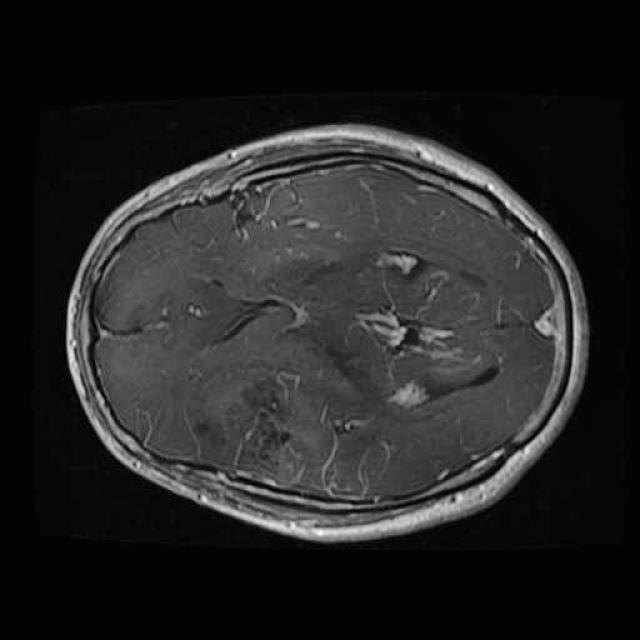Tumor: (186, 364, 322, 496)
